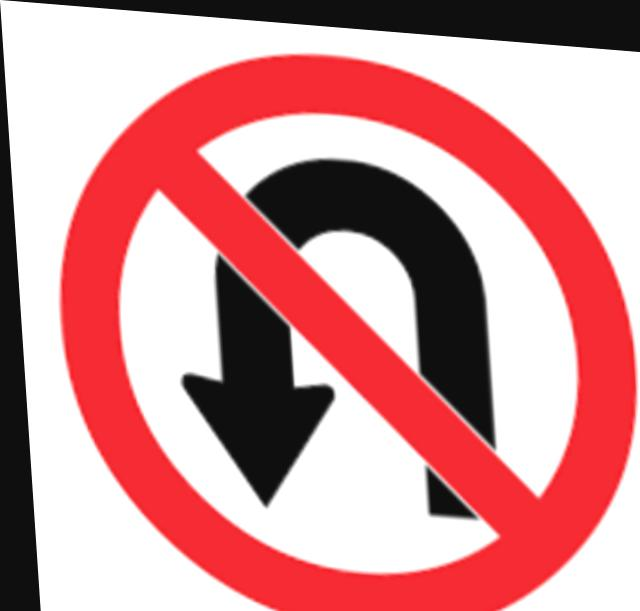not_u_turn_left: (38, 28, 640, 611)
